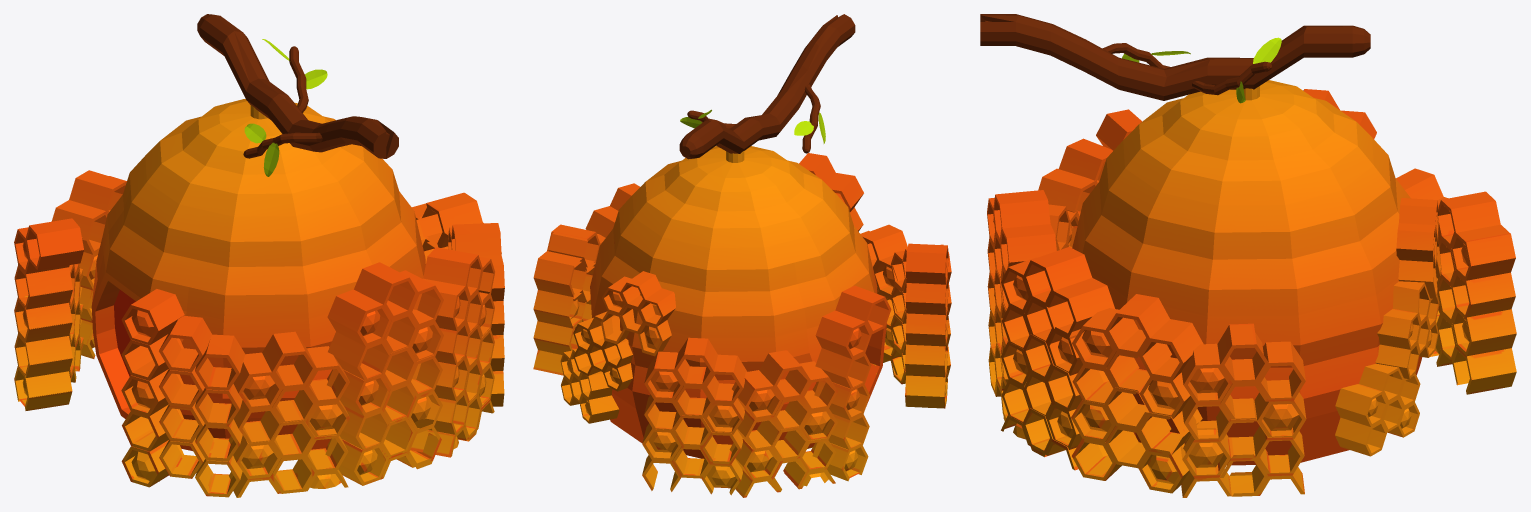
Rendered from BeeHive_FloorVersion.fbx.
The picture shows the model from 3 angles, left to right: view 1: azimuth 30°, elevation 25°; view 2: azimuth 150°, elevation 25°; view 3: azimuth 270°, elevation 25°; orthographic projection. The views are drawn at different scales.
Parts seen in each view (by area): view 1: Sphere.008, Sphere.006, Cylinder.013; view 2: Sphere.008, Sphere.006, Sphere.009, Cylinder.013; view 3: Sphere.008, Sphere.006, Sphere.009, Cylinder.013.
Boxes of the visible parts, <box> form: Sphere.008: <box>14,170,504,497</box>; Sphere.006: <box>91,99,425,450</box>; Cylinder.013: <box>197,14,398,158</box>; Sphere.008: <box>533,153,951,497</box>; Sphere.006: <box>590,146,886,458</box>; Sphere.009: <box>560,271,675,423</box>; Cylinder.013: <box>679,14,855,159</box>; Sphere.008: <box>987,89,1516,497</box>; Sphere.006: <box>1072,80,1422,465</box>; Sphere.009: <box>1335,198,1441,456</box>; Cylinder.013: <box>980,14,1370,100</box>.
Bounding box in the file's own units: 3427 × 2876 × 3621.
